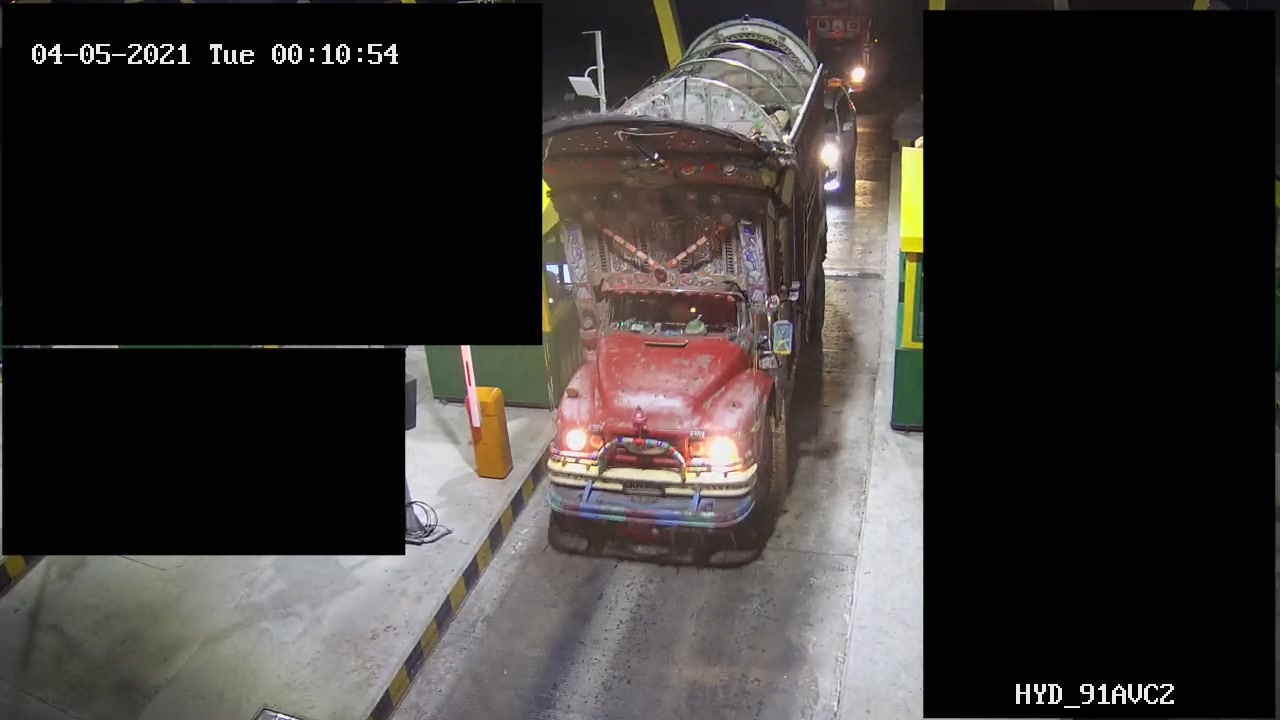F5: (523, 5, 838, 571)
